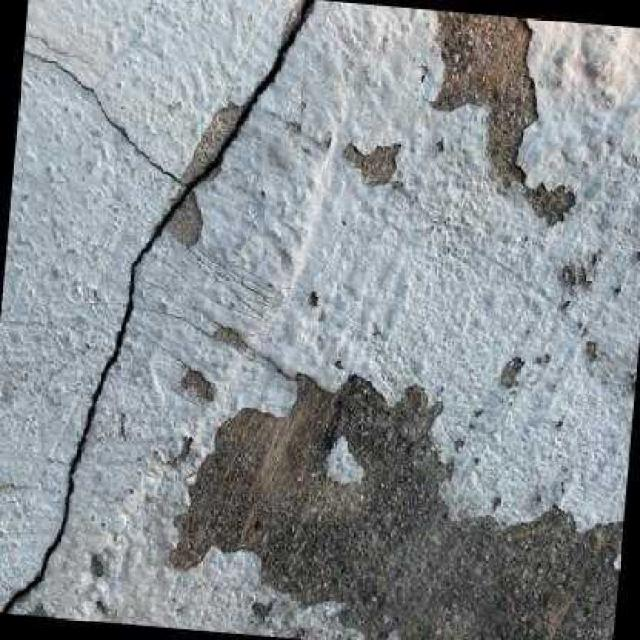D00: (0, 0, 315, 615)
